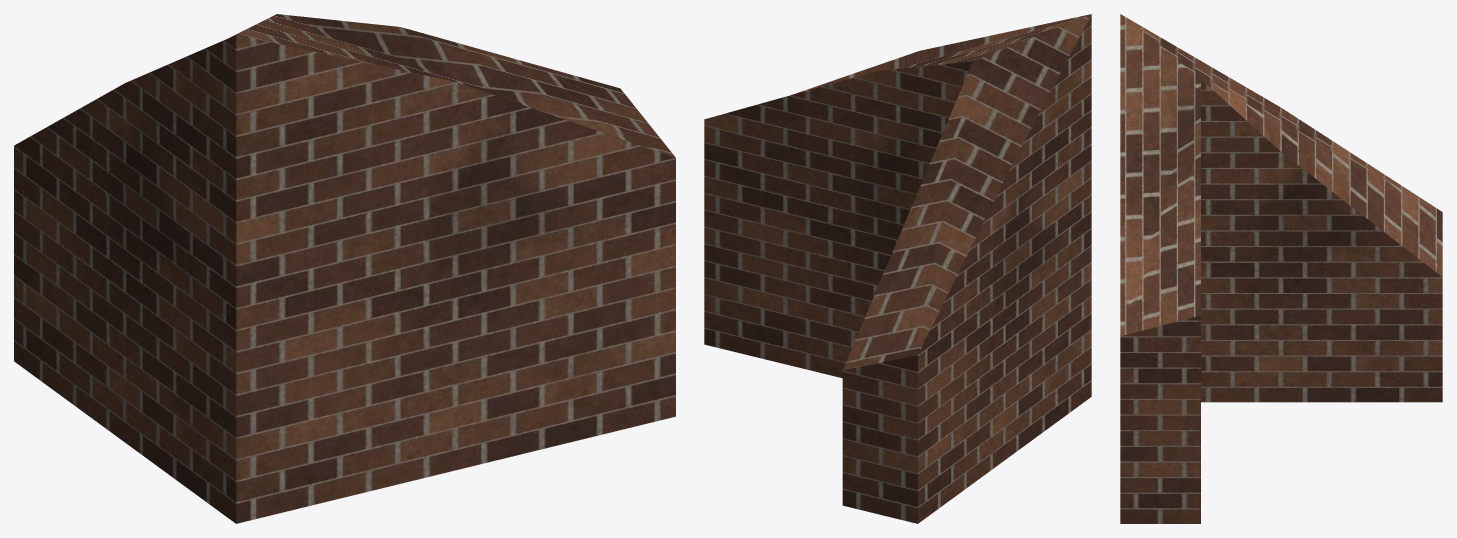
The model's file is debris_seattle_brick_corner.glb.
3 views of the same model, side by side, from view 1: azimuth 30°, elevation 25°; view 2: azimuth 150°, elevation 25°; view 3: azimuth 270°, elevation 25° (orthographic). The views are drawn at different scales.
Visible parts, largest first — view 1: debris_seattle_brick_corner; view 2: debris_seattle_brick_corner; view 3: debris_seattle_brick_corner.
Part boxes in pixels (bbox=[...]): debris_seattle_brick_corner: bbox=[14, 14, 675, 523]; debris_seattle_brick_corner: bbox=[704, 14, 1091, 523]; debris_seattle_brick_corner: bbox=[1120, 14, 1442, 523].
Bounding box in the file's own units: 1.6 × 1.7 × 1.4.
1 material, 1 textured.
